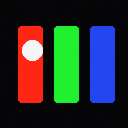2 circle: (22, 40, 42, 60)
